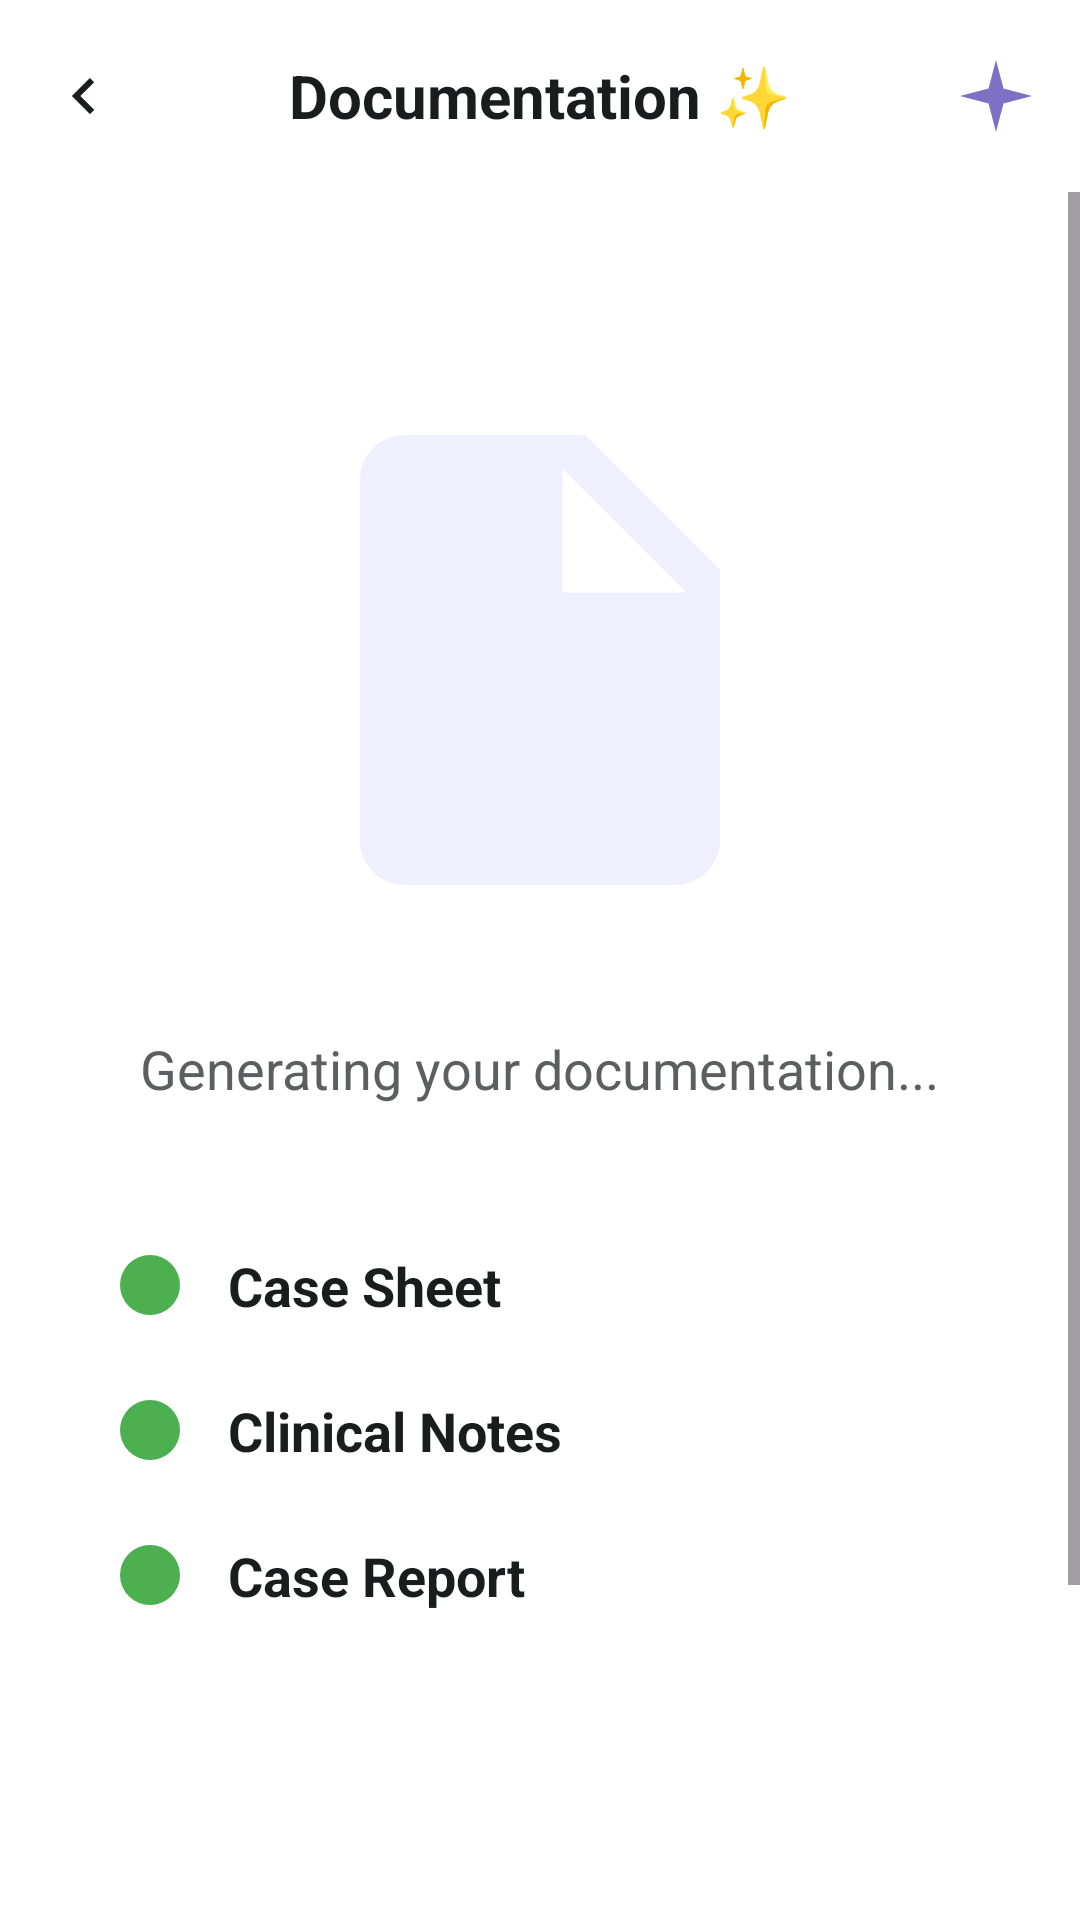

Where icons sit on this 1080 x 1920 app screen, as (x1, y1, x2, y2):
Magic: (961, 61, 1031, 131)
